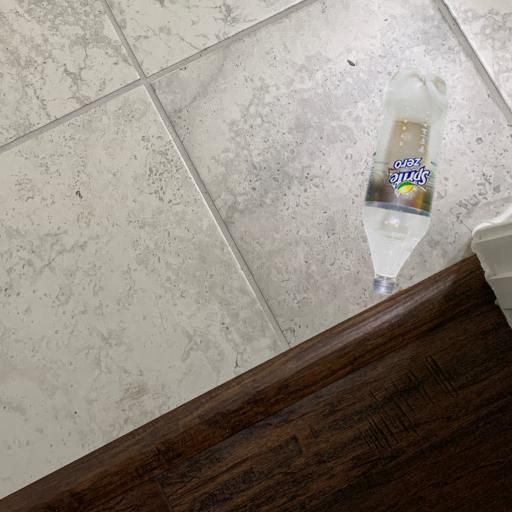bottle: (349, 0, 452, 151)
